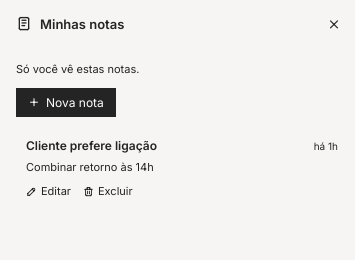
Test: PainelNotas › excluir manda para a lixeira e dá para desfazer
Click the button "Excluir". click: (108, 191)
box: top-left (83, 184), bottom-right (133, 199)
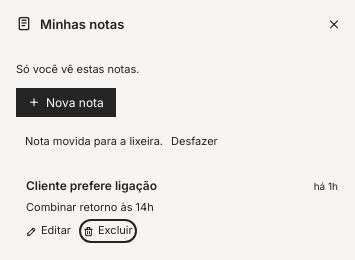
Expected: the message shows "lixeira", top-left (25, 134), bottom-right (163, 148)
Click the button "Desfazer". click: (194, 142)
box: top-left (171, 134), bottom-right (218, 150)
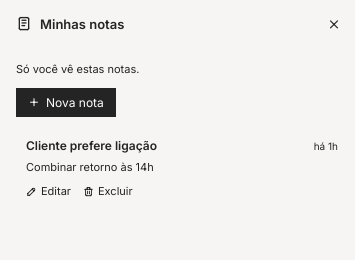
Expected: the button "Desfazer" is gone
